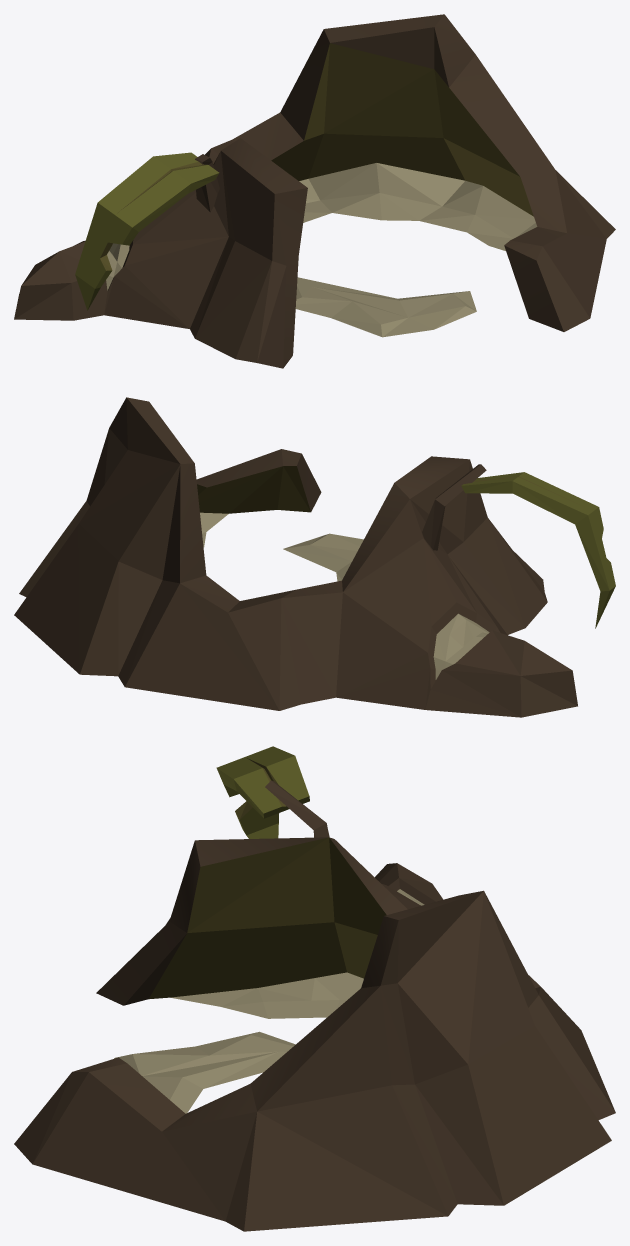
Rendered from Tree_A_02.FBX.
3 views of the same model, one above another, from view 1: azimuth 30°, elevation 25°; view 2: azimuth 150°, elevation 25°; view 3: azimuth 270°, elevation 25° (orthographic). The views are drawn at different scales.
Visible parts, largest first — view 1: Tree_A_02; view 2: Tree_A_02; view 3: Tree_A_02.
Boxes of the visible parts, left/top/right/bottom form: Tree_A_02: left=14, top=14, right=615, bottom=368; Tree_A_02: left=14, top=397, right=615, bottom=717; Tree_A_02: left=14, top=746, right=615, bottom=1231.
Size of the model in its own units: 9.48 by 3.31 by 7.29.
